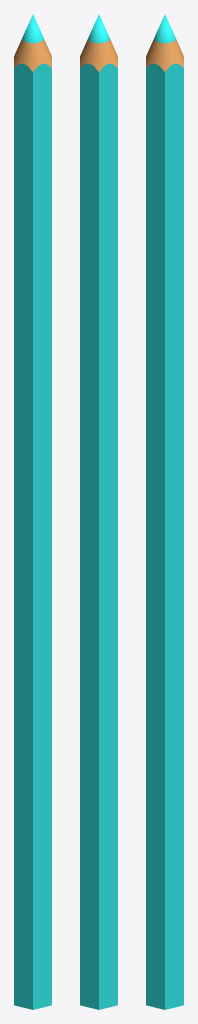
The model's file is potlood-Lblauw.fbx.
The picture shows the model from 3 angles, left to right: view 1: azimuth 30°, elevation 25°; view 2: azimuth 210°, elevation 25°; view 3: azimuth 270°, elevation 25°; orthographic projection.
Visible parts, largest first — view 1: Model; view 2: Model; view 3: Model.
Boxes of the visible parts, x1,y1,x2,y2 form: Model: (14, 14, 51, 1009); Model: (80, 14, 117, 1009); Model: (146, 14, 183, 1009).
Size of the model in its own units: 80 by 2000 by 69.28.
